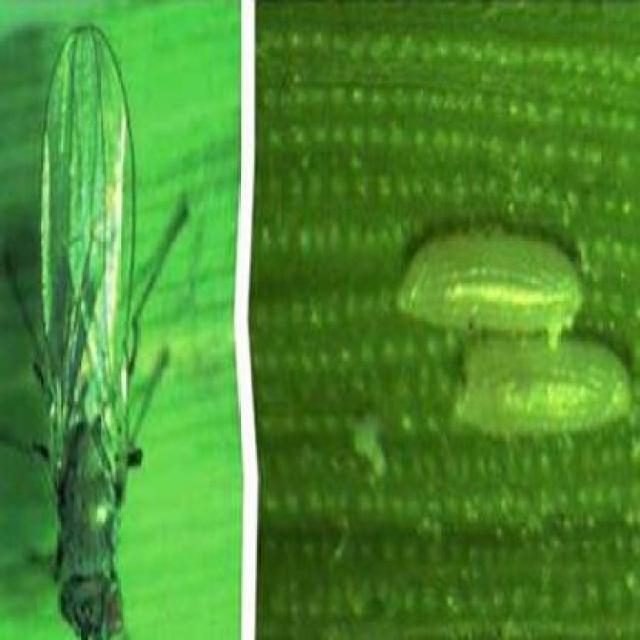whorl-maggot: (394, 216, 588, 335), (444, 334, 640, 434)
